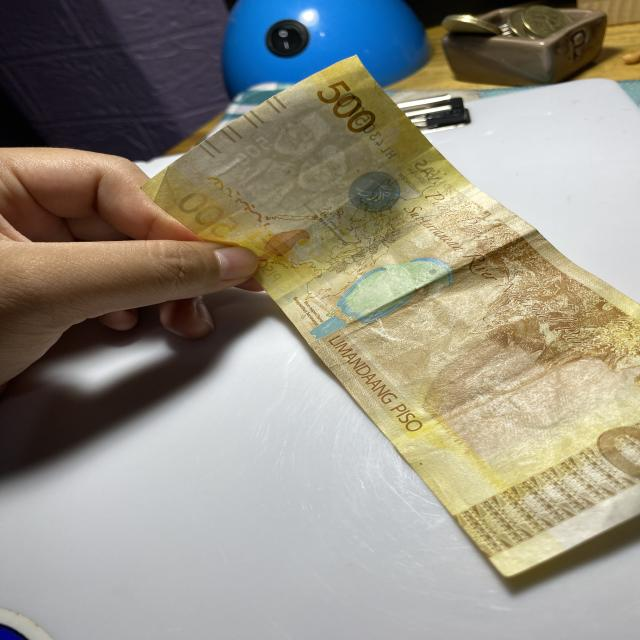500_big_parrot: (310, 258, 461, 340)
500_parrot_watermark: (253, 228, 310, 266)
value_watermark: (229, 138, 276, 164)
watermark: (239, 107, 373, 207)
